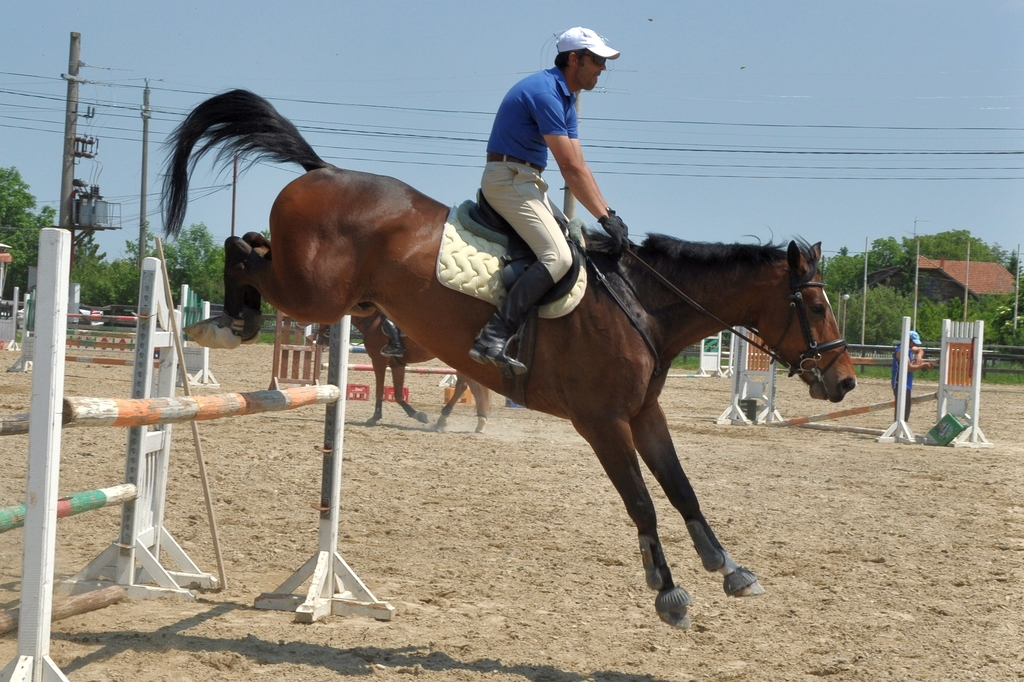horse: (152, 87, 856, 629)
